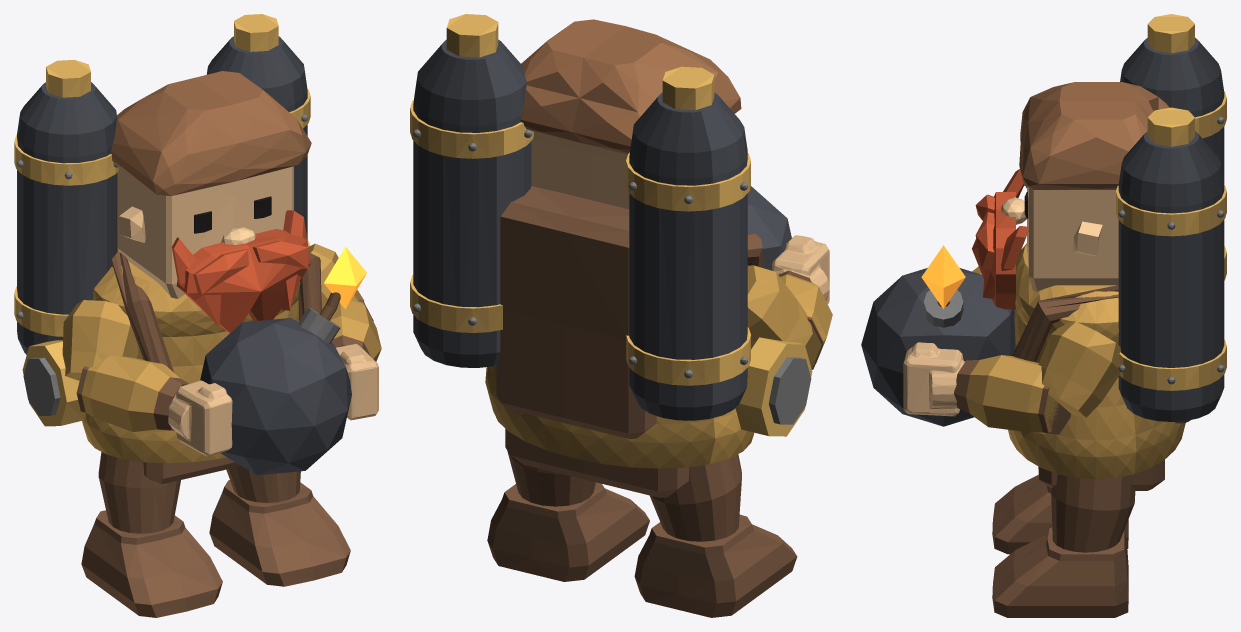
File: royalmarshal.glb
3 views of the same model, side by side, from view 1: azimuth 30°, elevation 25°; view 2: azimuth 150°, elevation 25°; view 3: azimuth 270°, elevation 25° (orthographic). The views are drawn at different scales.
Parts seen in each view (by area): view 1: Bomber — paired source back cylinder 1 — faceted cylinder wi, Dwarf Firebomber — full fitted asymmetrically faceted brown , Dwarf Firebomber — one physically two-hand bomb — faceted bl, Dwarf Firebomber — full continuous jaw straight forehead and, Dwarf Firebomber — broad source boot 1, Dwarf Firebomber — broad source boot -1, Dwarf Firebomber — source faceted fitted ochre coat with ful, Dwarf Firebomber — connected source beard with two split ang, Dwarf Firebomber RIGHT — tapered forearm and fitted wrist, Bomber — paired source back cylinder -1 — faceted cylinder w, Dwarf Firebomber — short bent trouser leg 1, Dwarf Firebomber RIGHT — connected upper articulated sleeve (+21 smaller); view 2: Bomber — paired source back cylinder 1 — faceted cylinder wi, Bomber — connected leather pack, Bomber — paired source back cylinder -1 — faceted cylinder w, Dwarf Firebomber — full fitted asymmetrically faceted brown , Dwarf Firebomber — broad source boot 1, Dwarf Firebomber — broad source boot -1, Dwarf Firebomber — source faceted fitted ochre coat with ful, Bomber — paired source back cylinder 1 — thick fitted brass  (×2), Bomber — paired source back cylinder -1 — thick fitted brass (×2), Dwarf Firebomber — short bent trouser leg 1, Dwarf Firebomber — full continuous jaw straight forehead and, Dwarf Firebomber — compact pelvis (+9 smaller); view 3: Bomber — paired source back cylinder -1 — faceted cylinder w, Dwarf Firebomber — source faceted fitted ochre coat with ful, Dwarf Firebomber — full fitted asymmetrically faceted brown , Dwarf Firebomber — one physically two-hand bomb — faceted bl, Dwarf Firebomber — broad source boot -1, Dwarf Firebomber — full continuous jaw straight forehead and, Bomber — paired source back cylinder 1 — faceted cylinder wi, Dwarf Firebomber — short bent trouser leg -1, Dwarf Firebomber LEFT — connected upper articulated sleeve, Dwarf Firebomber LEFT — tapered forearm and fitted wrist, Bomber — paired source back cylinder -1 — thick fitted brass (×2), Dwarf Firebomber LEFT — fitted palm (+13 smaller).
Boxes of the visible parts, box(x1,y1,x2,y2) form: Bomber — paired source back cylinder 1 — faceted cylinder wi: box(17, 82, 117, 354); Dwarf Firebomber — full fitted asymmetrically faceted brown : box(110, 71, 311, 196); Dwarf Firebomber — one physically two-hand bomb — faceted bl: box(200, 318, 351, 475); Dwarf Firebomber — full continuous jaw straight forehead and: box(117, 166, 293, 298); Dwarf Firebomber — broad source boot 1: box(81, 510, 222, 617); Dwarf Firebomber — broad source boot -1: box(209, 480, 350, 586); Dwarf Firebomber — source faceted fitted ochre coat with ful: box(82, 261, 300, 463); Dwarf Firebomber — connected source beard with two split ang: box(176, 229, 310, 332); Dwarf Firebomber RIGHT — tapered forearm and fitted wrist: box(81, 354, 179, 433); Bomber — paired source back cylinder -1 — faceted cylinder w: box(206, 36, 307, 240); Dwarf Firebomber — short bent trouser leg 1: box(98, 452, 180, 533); Dwarf Firebomber RIGHT — connected upper articulated sleeve: box(62, 300, 138, 380); Bomber — paired source back cylinder 1 — faceted cylinder wi: box(629, 92, 747, 420); Bomber — connected leather pack: box(496, 186, 656, 439); Bomber — paired source back cylinder -1 — faceted cylinder w: box(413, 39, 531, 367); Dwarf Firebomber — full fitted asymmetrically faceted brown : box(520, 19, 741, 154); Dwarf Firebomber — broad source boot 1: box(634, 514, 797, 617); Dwarf Firebomber — broad source boot -1: box(487, 482, 649, 581); Dwarf Firebomber — source faceted fitted ochre coat with ful: box(485, 365, 754, 468); Bomber — paired source back cylinder 1 — thick fitted brass  (×2): box(626, 152, 750, 385); Bomber — paired source back cylinder -1 — thick fitted brass (×2): box(410, 100, 533, 332); Dwarf Firebomber — short bent trouser leg 1: box(650, 454, 741, 541); Dwarf Firebomber — full continuous jaw straight forehead and: box(531, 131, 629, 209); Dwarf Firebomber — compact pelvis: box(505, 429, 688, 497); Bomber — paired source back cylinder -1 — faceted cylinder w: box(1118, 131, 1224, 421); Dwarf Firebomber — source faceted fitted ochre coat with ful: box(1008, 243, 1185, 479); Dwarf Firebomber — full fitted asymmetrically faceted brown : box(1019, 82, 1169, 189); Dwarf Firebomber — one physically two-hand bomb — faceted bl: box(861, 268, 1015, 426); Dwarf Firebomber — broad source boot -1: box(992, 527, 1128, 617); Dwarf Firebomber — full continuous jaw straight forehead and: box(1027, 187, 1118, 291); Bomber — paired source back cylinder 1 — faceted cylinder wi: box(1120, 38, 1224, 183); Dwarf Firebomber — short bent trouser leg -1: box(1051, 474, 1135, 552); Dwarf Firebomber LEFT — connected upper articulated sleeve: box(1038, 321, 1120, 417); Dwarf Firebomber LEFT — tapered forearm and fitted wrist: box(966, 355, 1060, 433); Bomber — paired source back cylinder -1 — thick fitted brass (×2): box(1116, 184, 1226, 390); Dwarf Firebomber LEFT — fitted palm: box(903, 342, 964, 416).
Bounding box in the file's own units: 0.7091 × 1.09 × 0.7273.
